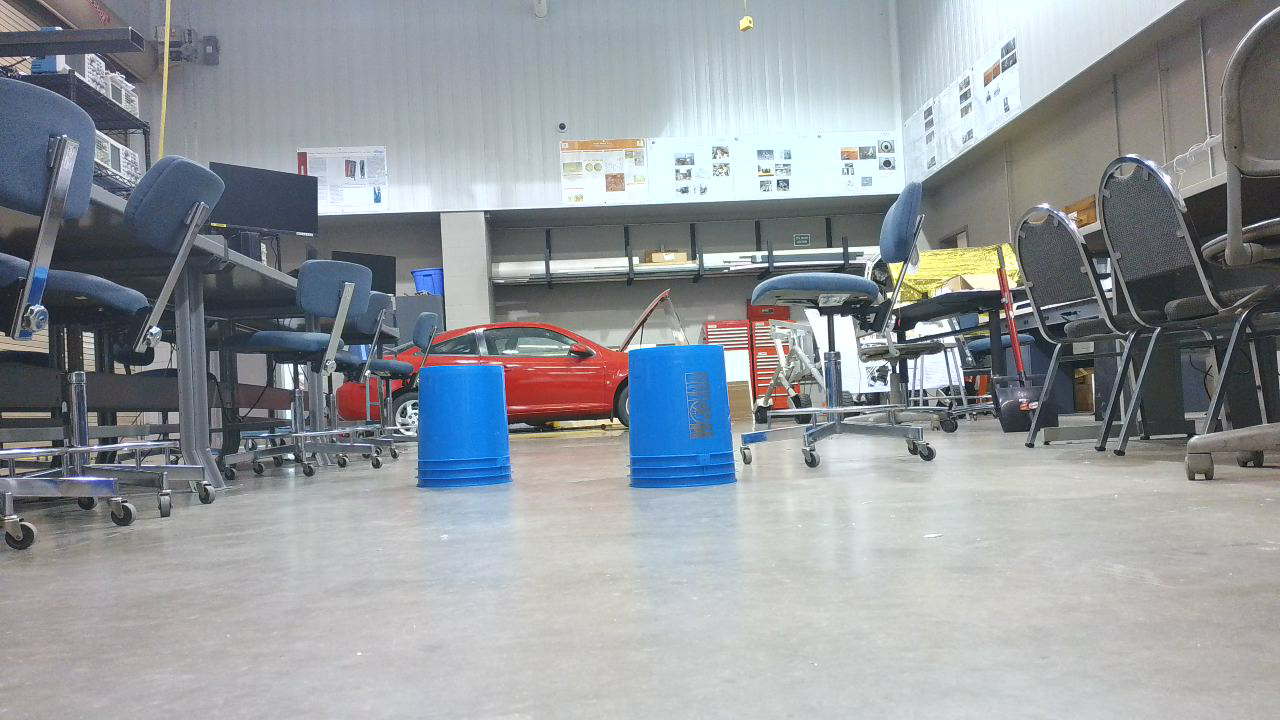blue_bucket: (626, 349, 742, 495), (416, 368, 519, 496)
